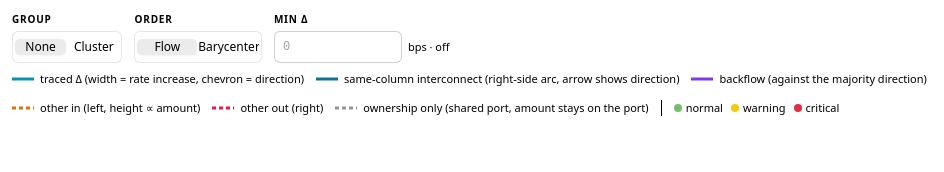
Scenario: TraceViewControls Min Δ › applies a typed threshold after a 200 ms pause, not on every keystroke
Type "5000000" into the number field with test id "trace-min-bps". click: x=338, y=47
box: [274,31,402,63]
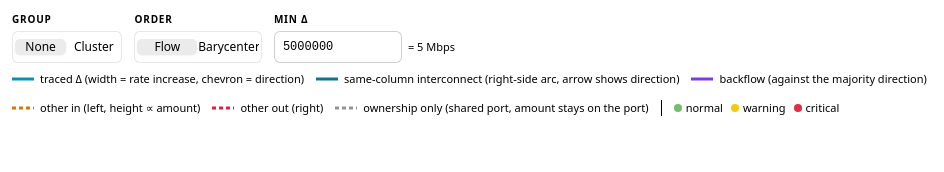
Replace the text in the number field with test id "trace-min-bps" with "5000000000". click: x=338, y=47
box: [274,31,402,63]
Wait 200 ms
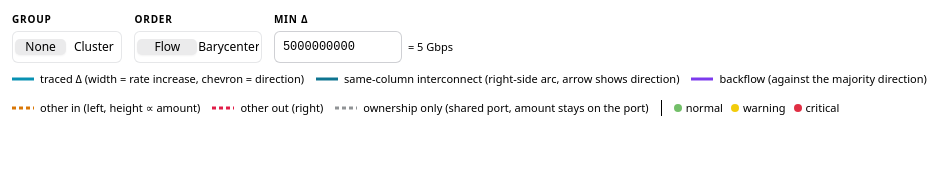
expect the text with test id "trace-min-bps-hint" reads "= 5 Gbps": met, box [408,39,453,54]
